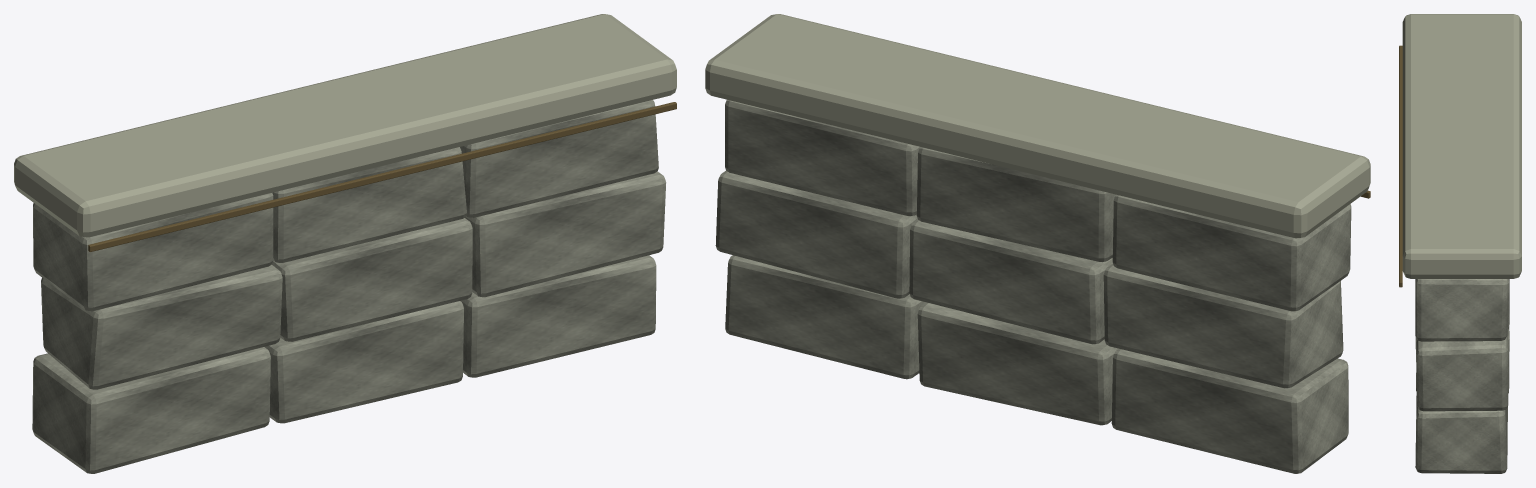
Rendered from wall.glb.
3 views of the same model, side by side, from view 1: azimuth 30°, elevation 25°; view 2: azimuth 150°, elevation 25°; view 3: azimuth 270°, elevation 25° (orthographic). The views are drawn at different scales.
Visible parts, largest first — view 1: Wall_coping, Wall_masonry, Wall_masonry.003, Wall_masonry.006, Wall_masonry.005, Wall_masonry.001, Wall_masonry.004, Wall_masonry.002, Wall_masonry.008, Wall_masonry.007, Wall_inlay; view 2: Wall_coping, Wall_masonry, Wall_masonry.003, Wall_masonry.006, Wall_masonry.005, Wall_masonry.004, Wall_masonry.001, Wall_masonry.002, Wall_masonry.007, Wall_masonry.008; view 3: Wall_coping, Wall_masonry.005, Wall_masonry.002, Wall_masonry.008, Wall_inlay.
Boxes of the visible parts, bbox=[...] form: Wall_coping: bbox=[14, 14, 676, 237]; Wall_masonry: bbox=[32, 347, 270, 473]; Wall_masonry.003: bbox=[41, 264, 282, 389]; Wall_masonry.006: bbox=[33, 193, 273, 311]; Wall_masonry.005: bbox=[465, 171, 666, 297]; Wall_masonry.001: bbox=[264, 301, 463, 423]; Wall_masonry.004: bbox=[272, 218, 472, 341]; Wall_masonry.002: bbox=[460, 255, 656, 377]; Wall_masonry.008: bbox=[460, 100, 658, 217]; Wall_masonry.007: bbox=[272, 147, 466, 262]; Wall_inlay: bbox=[88, 102, 676, 251]; Wall_coping: bbox=[705, 14, 1370, 238]; Wall_masonry: bbox=[1111, 348, 1348, 473]; Wall_masonry.003: bbox=[1103, 263, 1343, 388]; Wall_masonry.006: bbox=[1112, 194, 1351, 311]; Wall_masonry.005: bbox=[715, 170, 917, 298]; Wall_masonry.004: bbox=[909, 219, 1112, 344]; Wall_masonry.001: bbox=[917, 302, 1118, 425]; Wall_masonry.002: bbox=[725, 255, 925, 379]; Wall_masonry.007: bbox=[916, 147, 1115, 262]; Wall_masonry.008: bbox=[725, 99, 919, 216]; Wall_coping: bbox=[1402, 14, 1521, 278]; Wall_masonry.005: bbox=[1415, 325, 1508, 411]; Wall_masonry.002: bbox=[1415, 388, 1507, 473]; Wall_masonry.008: bbox=[1415, 279, 1509, 341]; Wall_inlay: bbox=[1399, 45, 1402, 287].
Size of the model in its own units: 3.12 by 1.4 by 0.67.
3 materials, 1 textured.
